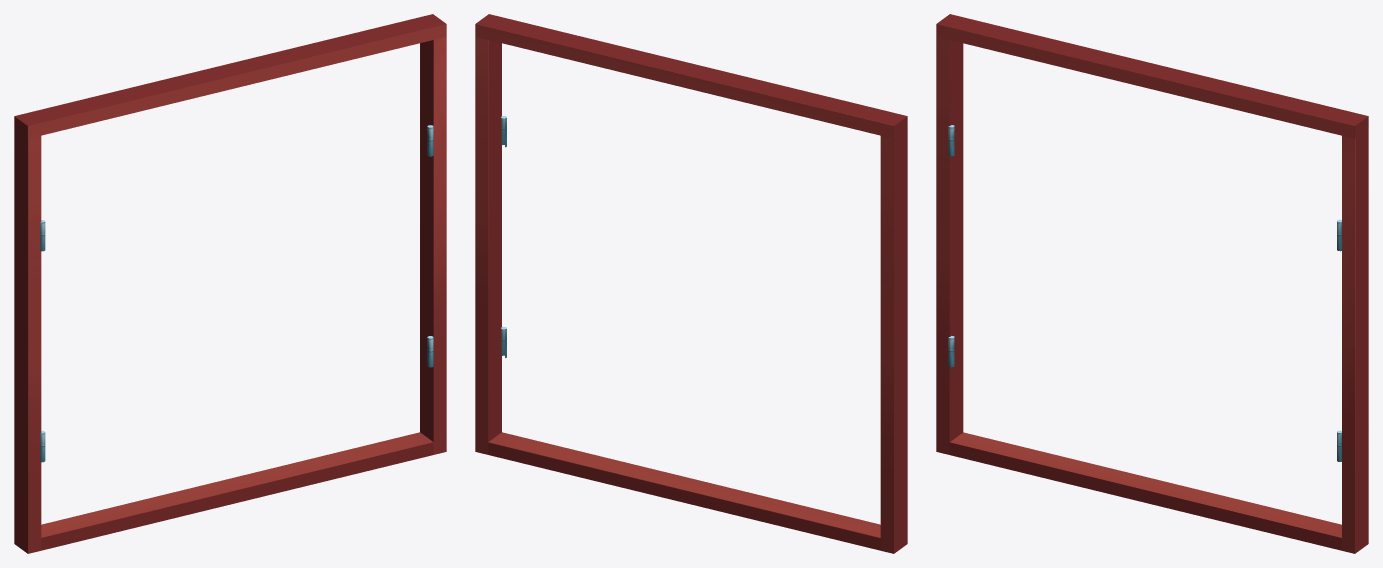
Rendered from DoorFrame_2.FBX.
3 renders of one model, left to right at view 1: azimuth 30°, elevation 25°; view 2: azimuth 150°, elevation 25°; view 3: azimuth 330°, elevation 25°, orthographic.
Parts seen in each view (by area): view 1: Box164; view 2: Box164; view 3: Box164.
Part boxes in pixels (x1,y1,x2,y2): Box164: [14, 14, 446, 553]; Box164: [475, 14, 907, 553]; Box164: [936, 14, 1368, 553].
Size of the model in its own units: 19.87 by 19.4 by 1.21.
